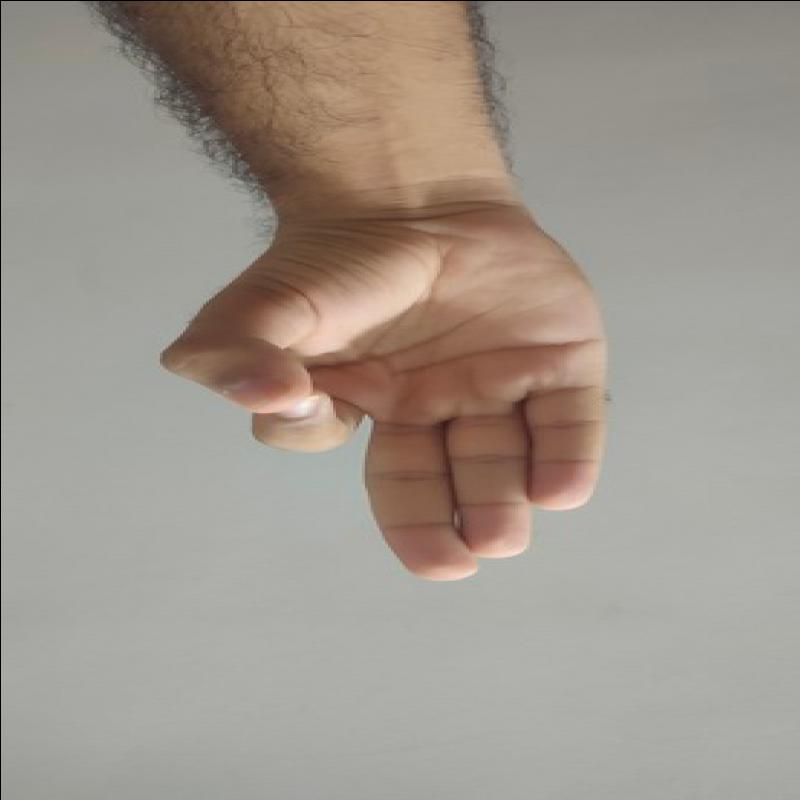Mudraakhyam: (152, 195, 628, 598)
